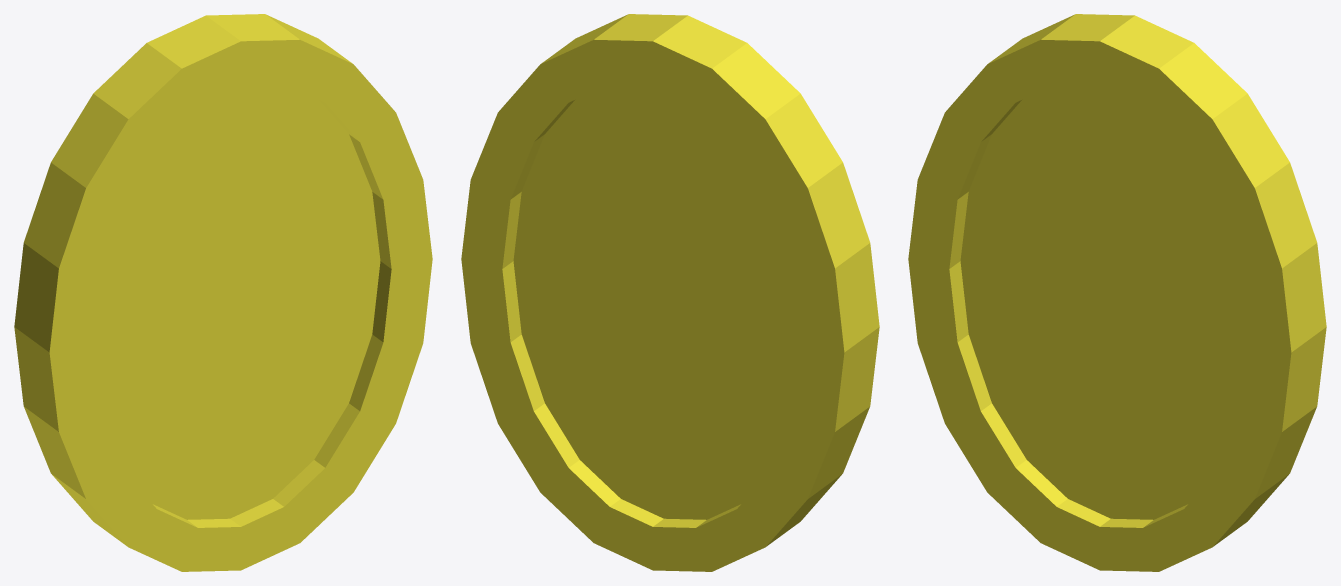
The model's file is coin.glb.
3 views of the same model, side by side, from view 1: azimuth 30°, elevation 25°; view 2: azimuth 150°, elevation 25°; view 3: azimuth 330°, elevation 25° (orthographic).
Visible parts, largest first — view 1: Coin; view 2: Coin; view 3: Coin.
Boxes of the visible parts, x1,y1,x2,y2 form: Coin: (14,14,432,571); Coin: (461,14,879,571); Coin: (908,14,1326,571).
Size of the model in its own units: 1.21 by 1.6 by 0.1932.
